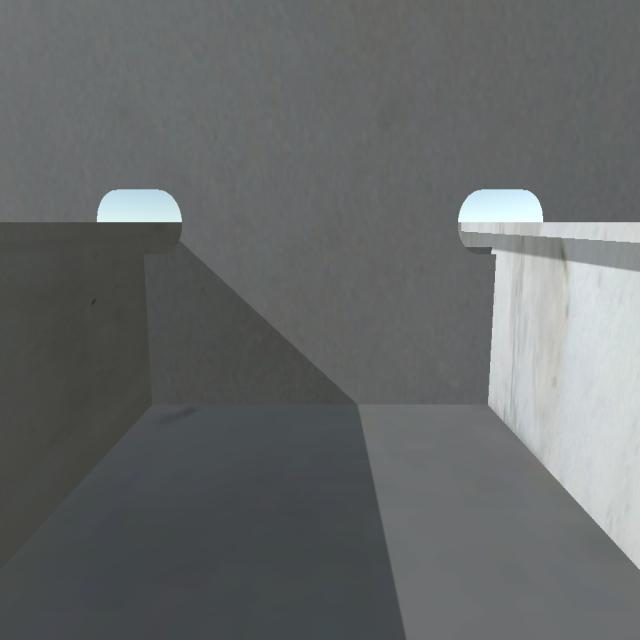fillet_yong_jeop_jang: (148, 396, 486, 411)
longi_yong_jeop_jang: (138, 253, 156, 399), (487, 253, 499, 409)
